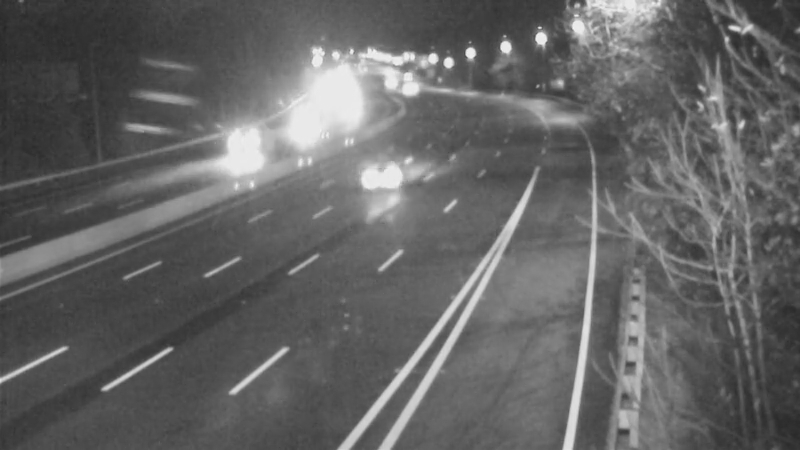vehicle: (345, 133, 425, 213), (381, 65, 431, 115), (214, 123, 264, 173), (263, 104, 313, 154)
